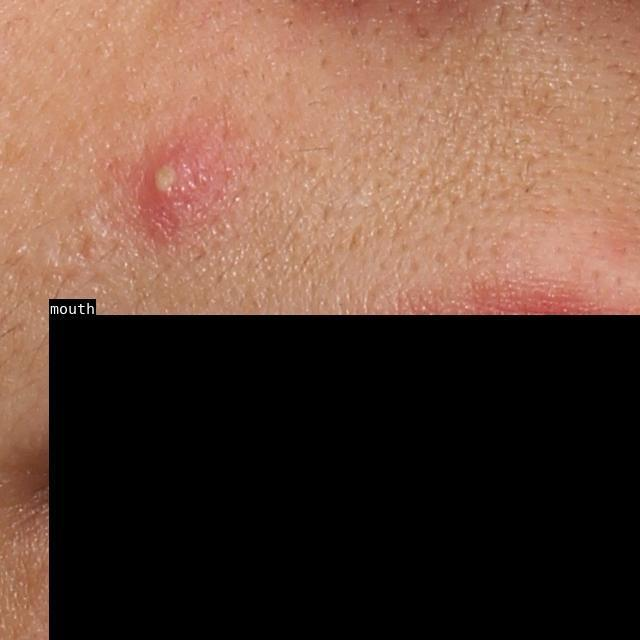atrophic_scar: (77, 226, 97, 262)
pustule: (134, 131, 224, 233)
